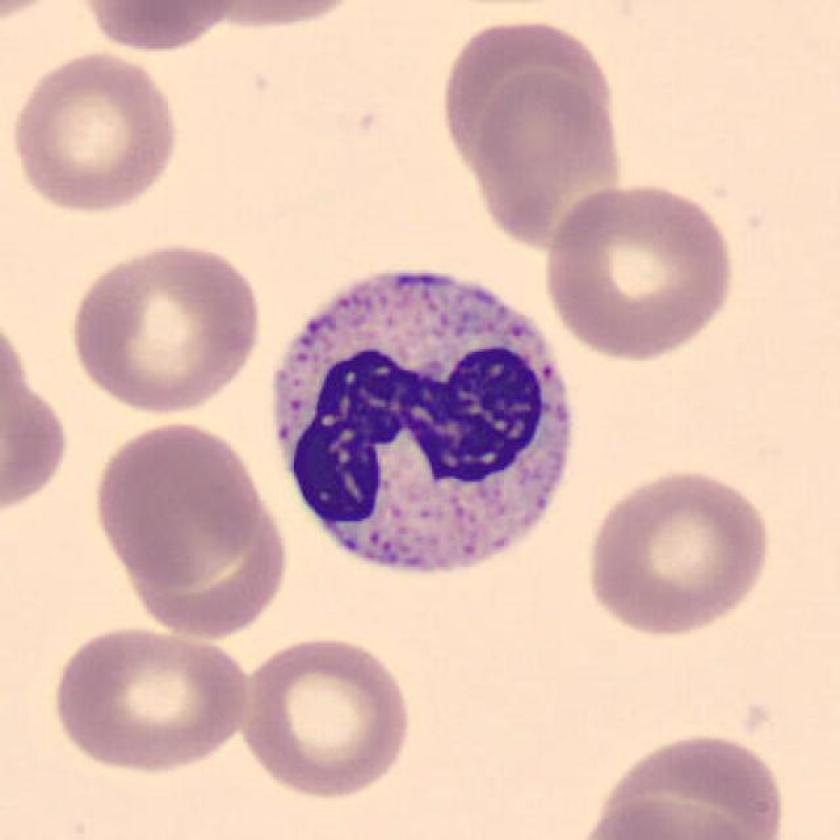neutrophil: (278, 271, 573, 567)
